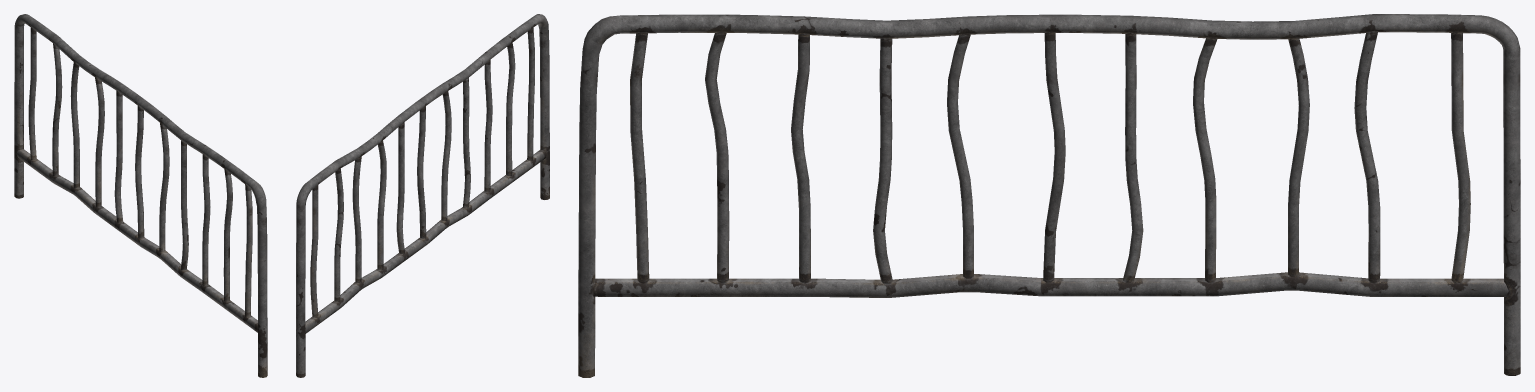
Rendered from SM_Fence.fbx.
The picture shows the model from 3 angles, left to right: view 1: azimuth 30°, elevation 25°; view 2: azimuth 150°, elevation 25°; view 3: azimuth 270°, elevation 25°; orthographic projection. The views are drawn at different scales.
Parts seen in each view (by area): view 1: SM_Fence_LOD0; view 2: SM_Fence_LOD0; view 3: SM_Fence_LOD0.
Part boxes in pixels (x1,y1,x2,y2): SM_Fence_LOD0: [14, 14, 267, 377]; SM_Fence_LOD0: [296, 14, 549, 377]; SM_Fence_LOD0: [578, 14, 1520, 377].
Bounding box in the file's own units: 6.68 × 339 × 142.
Materials: 1 (1 with a texture image).
